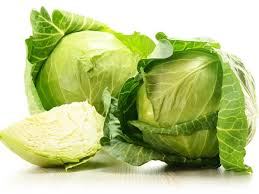cabbage: (138, 41, 254, 174), (28, 34, 136, 125)
